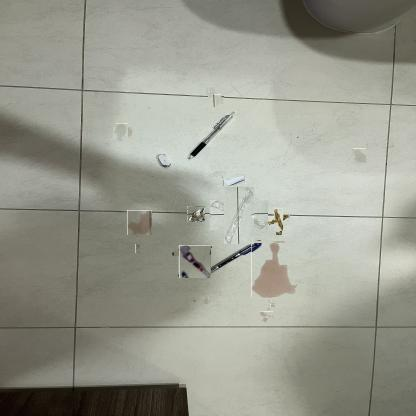dirty: (217, 194, 261, 238), (178, 245, 211, 278), (187, 206, 205, 222), (270, 212, 287, 228), (224, 174, 246, 186), (236, 227, 245, 237), (276, 221, 282, 235)
liquid: (251, 242, 296, 298), (127, 210, 152, 235), (115, 125, 130, 141), (352, 148, 366, 163), (212, 95, 223, 106), (261, 310, 272, 320), (206, 87, 216, 97), (135, 243, 140, 253), (203, 297, 210, 304), (172, 250, 180, 256), (270, 303, 275, 307), (267, 299, 271, 303)
